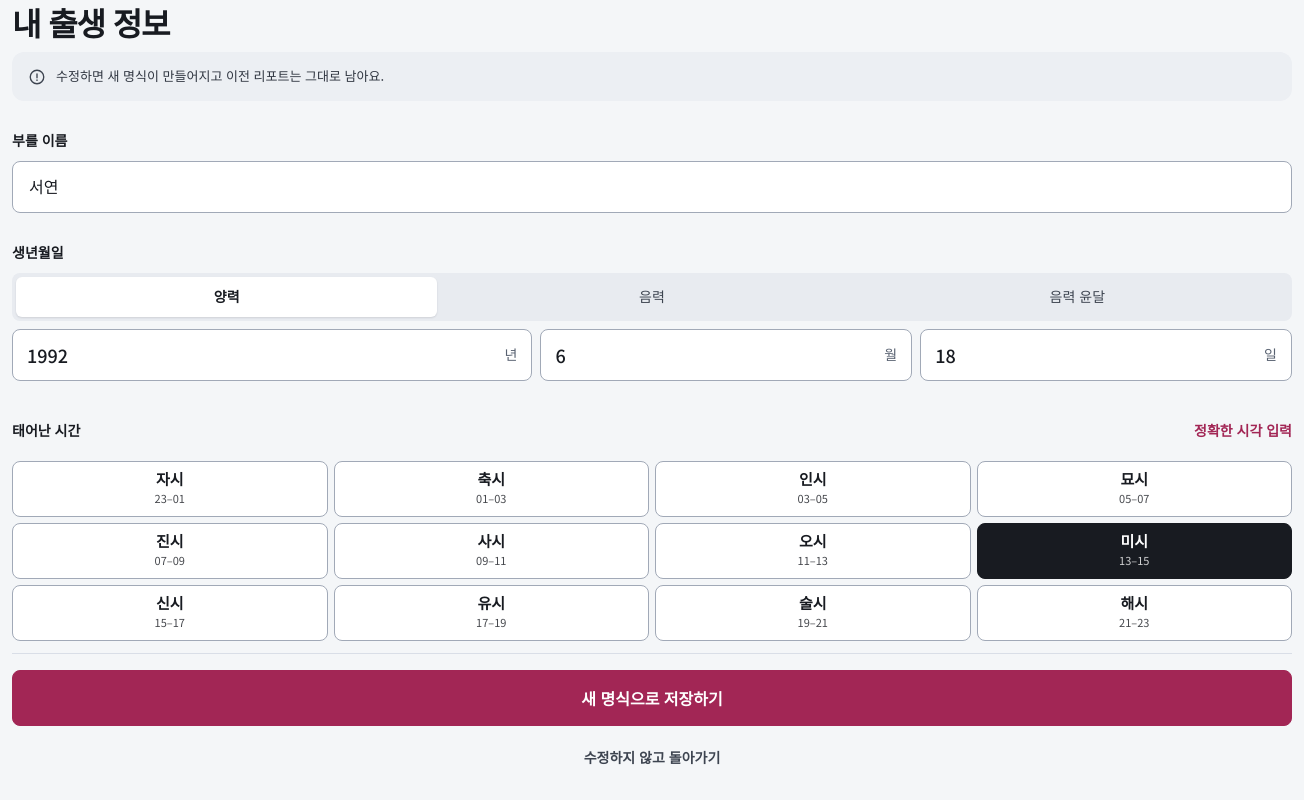
Scenario: birth information edit › prefills my profile, saves a new chart and report, and keeps the journey on the new snapshot
The width and height of the screenshot is (1304, 800).
expect the heading "내 출생 정보" is shown: met, box [12,0,169,45]
expect the element showing "수정하면 새 명식이 만들어지고 이전 리포트는 그대로 남아요." is shown: met, box [12,52,1292,101]
Replace the text in the field named "태어난 날" with "19" at {"x": 1098, "y": 354}, box [935,330,1260,380]
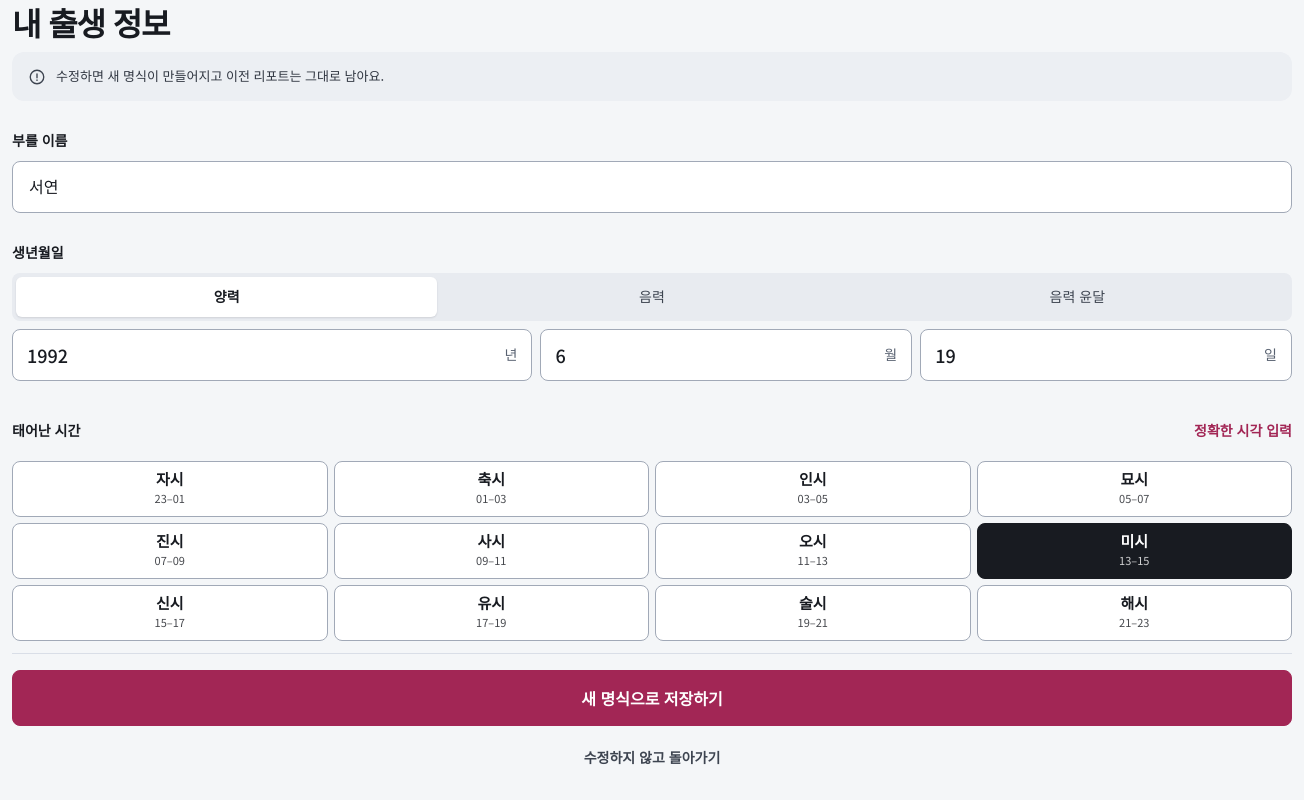
Click the button "신시 15–17" at {"x": 170, "y": 612}, box [12,584,328,640]
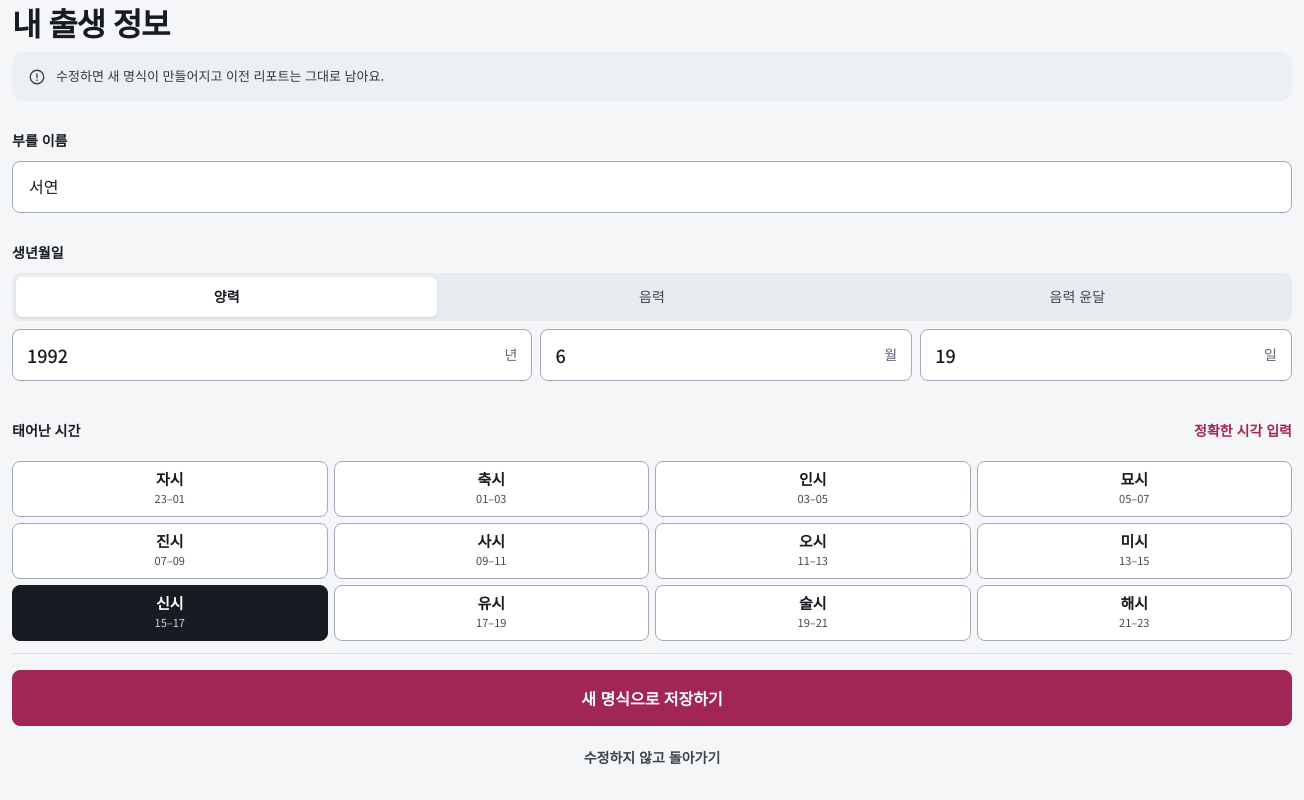
Click the button "새 명식으로 저장하기" at {"x": 652, "y": 698}, box [12,670,1292,726]
(page scrolled)
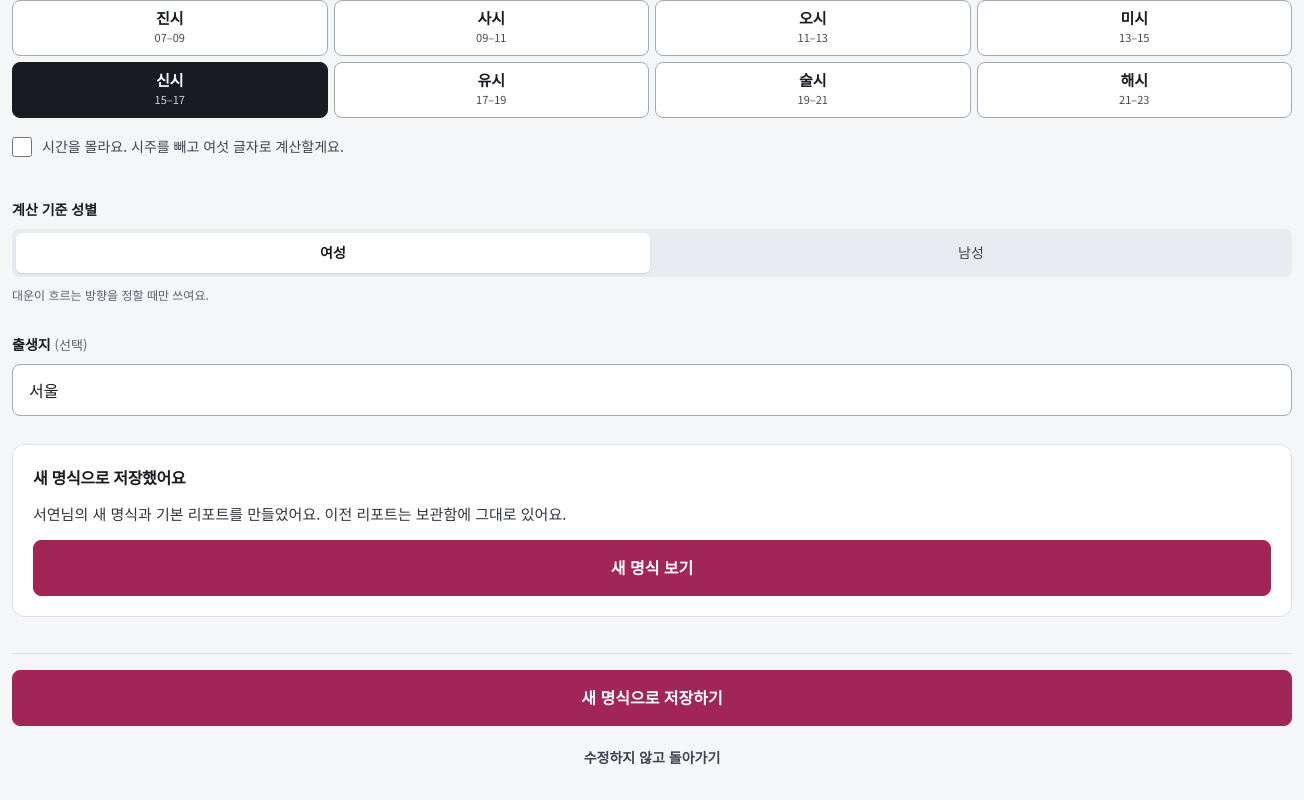
expect the heading "새 명식으로 저장했어요" is shown: met, box [33,465,185,489]
expect the text "이전 리포트는 보관함에 그대로 있어요" is shown: met, box [33,503,566,524]
